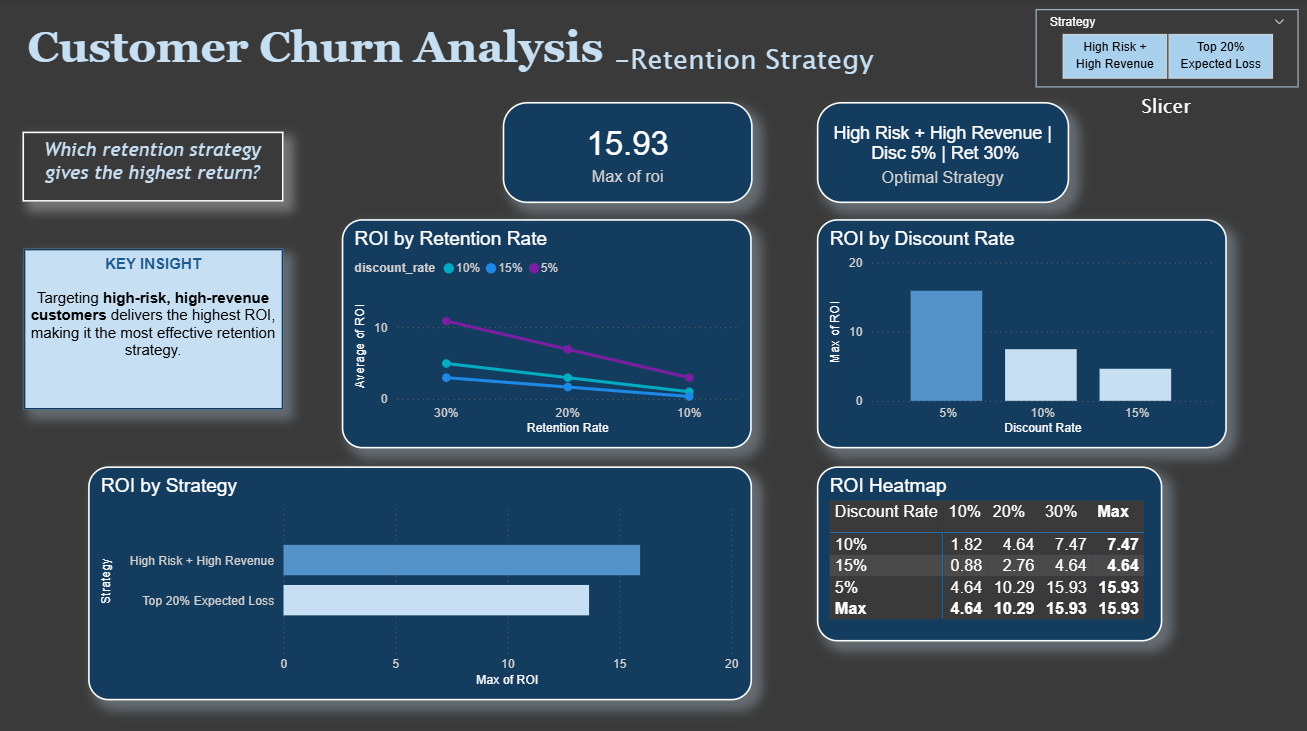

Layout of this report page (visuals, bound fields, positions):
{"tool":"powerbi","page":{"name":"Retention Strategy","canvas":[1280,720],"ordinal":4},"visuals":[{"type":"slicer","fields":{"Values":["public retention_simulation_results.strategy"]},"box":[1012,10.7,256,76],"z":0},{"type":"clusteredColumnChart","title":"ROI by Discount Rate","fields":{"Y":["Max(public retention_simulation_results.roi)"],"Category":["public retention_simulation_results.discount_rate"]},"box":[798.7,214.7,400,224],"z":1000},{"type":"clusteredBarChart","title":"ROI by Strategy","fields":{"Y":["Max(public retention_simulation_results.roi)"],"Category":["public retention_simulation_results.strategy"]},"box":[88,456,648,228],"z":2000},{"type":"pivotTable","title":"ROI Heatmap","fields":{"Rows":["public retention_simulation_results.discount_rate"],"Columns":["public retention_simulation_results.retention_rate"],"Values":["Max(public retention_simulation_results.roi)"]},"box":[798.7,456,337.3,170.7],"z":3000},{"type":"lineChart","title":"ROI by Retention Rate","fields":{"Category":["public retention_simulation_results.retention_rate"],"Series":["public retention_simulation_results.discount_rate"],"Y":["Avg(public retention_simulation_results.roi)"]},"box":[336,214.7,400,224],"z":4000},{"type":"textbox","box":[24.2,18.2,850,75.8],"z":5000},{"type":"textbox","box":[24.2,128.8,254.5,68.2],"z":6000},{"type":"textbox","box":[24.7,244.2,253.2,157.1],"z":7000},{"type":"card","fields":{"Values":["Max(public retention_simulation_results.roi)"]},"box":[491.8,100,244.3,98.4],"z":8000},{"type":"card","fields":{"Values":["public retention_simulation_results.Optimal Strategy"]},"box":[798.4,100,245.9,98.4],"z":9000},{"type":"textbox","box":[1012,86.7,254.7,42.7],"z":10000}]}

Visuals, with their boxes in screenshot pixels (x1, y1, x2, y2), scaled from the page's 1280x720 canvas onto the 1307x731 screenshot:
slicer - public retention_simulation_results.strategy: bbox=[1033, 11, 1295, 88]
"ROI by Discount Rate" clusteredColumnChart: bbox=[816, 218, 1224, 445]
"ROI by Strategy" clusteredBarChart: bbox=[90, 463, 752, 694]
"ROI Heatmap" pivotTable: bbox=[816, 463, 1160, 636]
"ROI by Retention Rate" lineChart: bbox=[343, 218, 752, 445]
textbox: bbox=[25, 18, 893, 95]
textbox: bbox=[25, 131, 285, 200]
textbox: bbox=[25, 248, 284, 407]
card - Max(public retention_simulation_results.roi): bbox=[502, 102, 752, 201]
card - public retention_simulation_results.Optimal Strategy: bbox=[815, 102, 1066, 201]
textbox: bbox=[1033, 88, 1293, 131]
